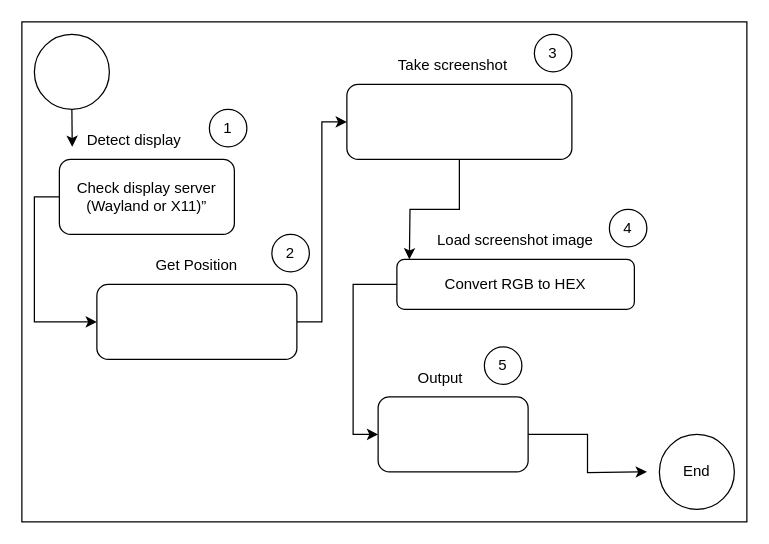
This 769x544 diagram has some shape labels left out. The shapes that lost their labels are listed below. From the top down, each one's box as (x1, y1, x2, y2) in pixels, then its label:
(33, 33, 109, 109): Start
(346, 83, 572, 159): Capture pixel RGB
(96, 283, 297, 359): Get mouse position (X, Y)
(377, 396, 528, 472): Output HEX code
